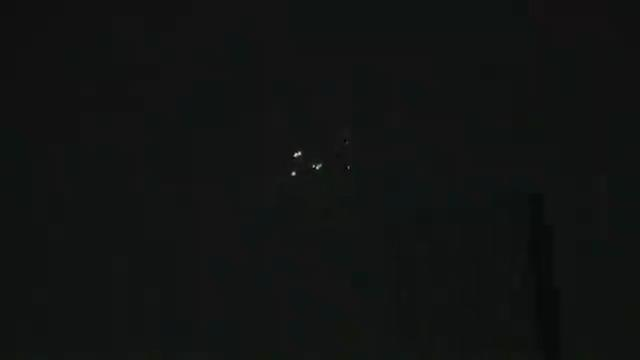Plane: (270, 138, 335, 186)
